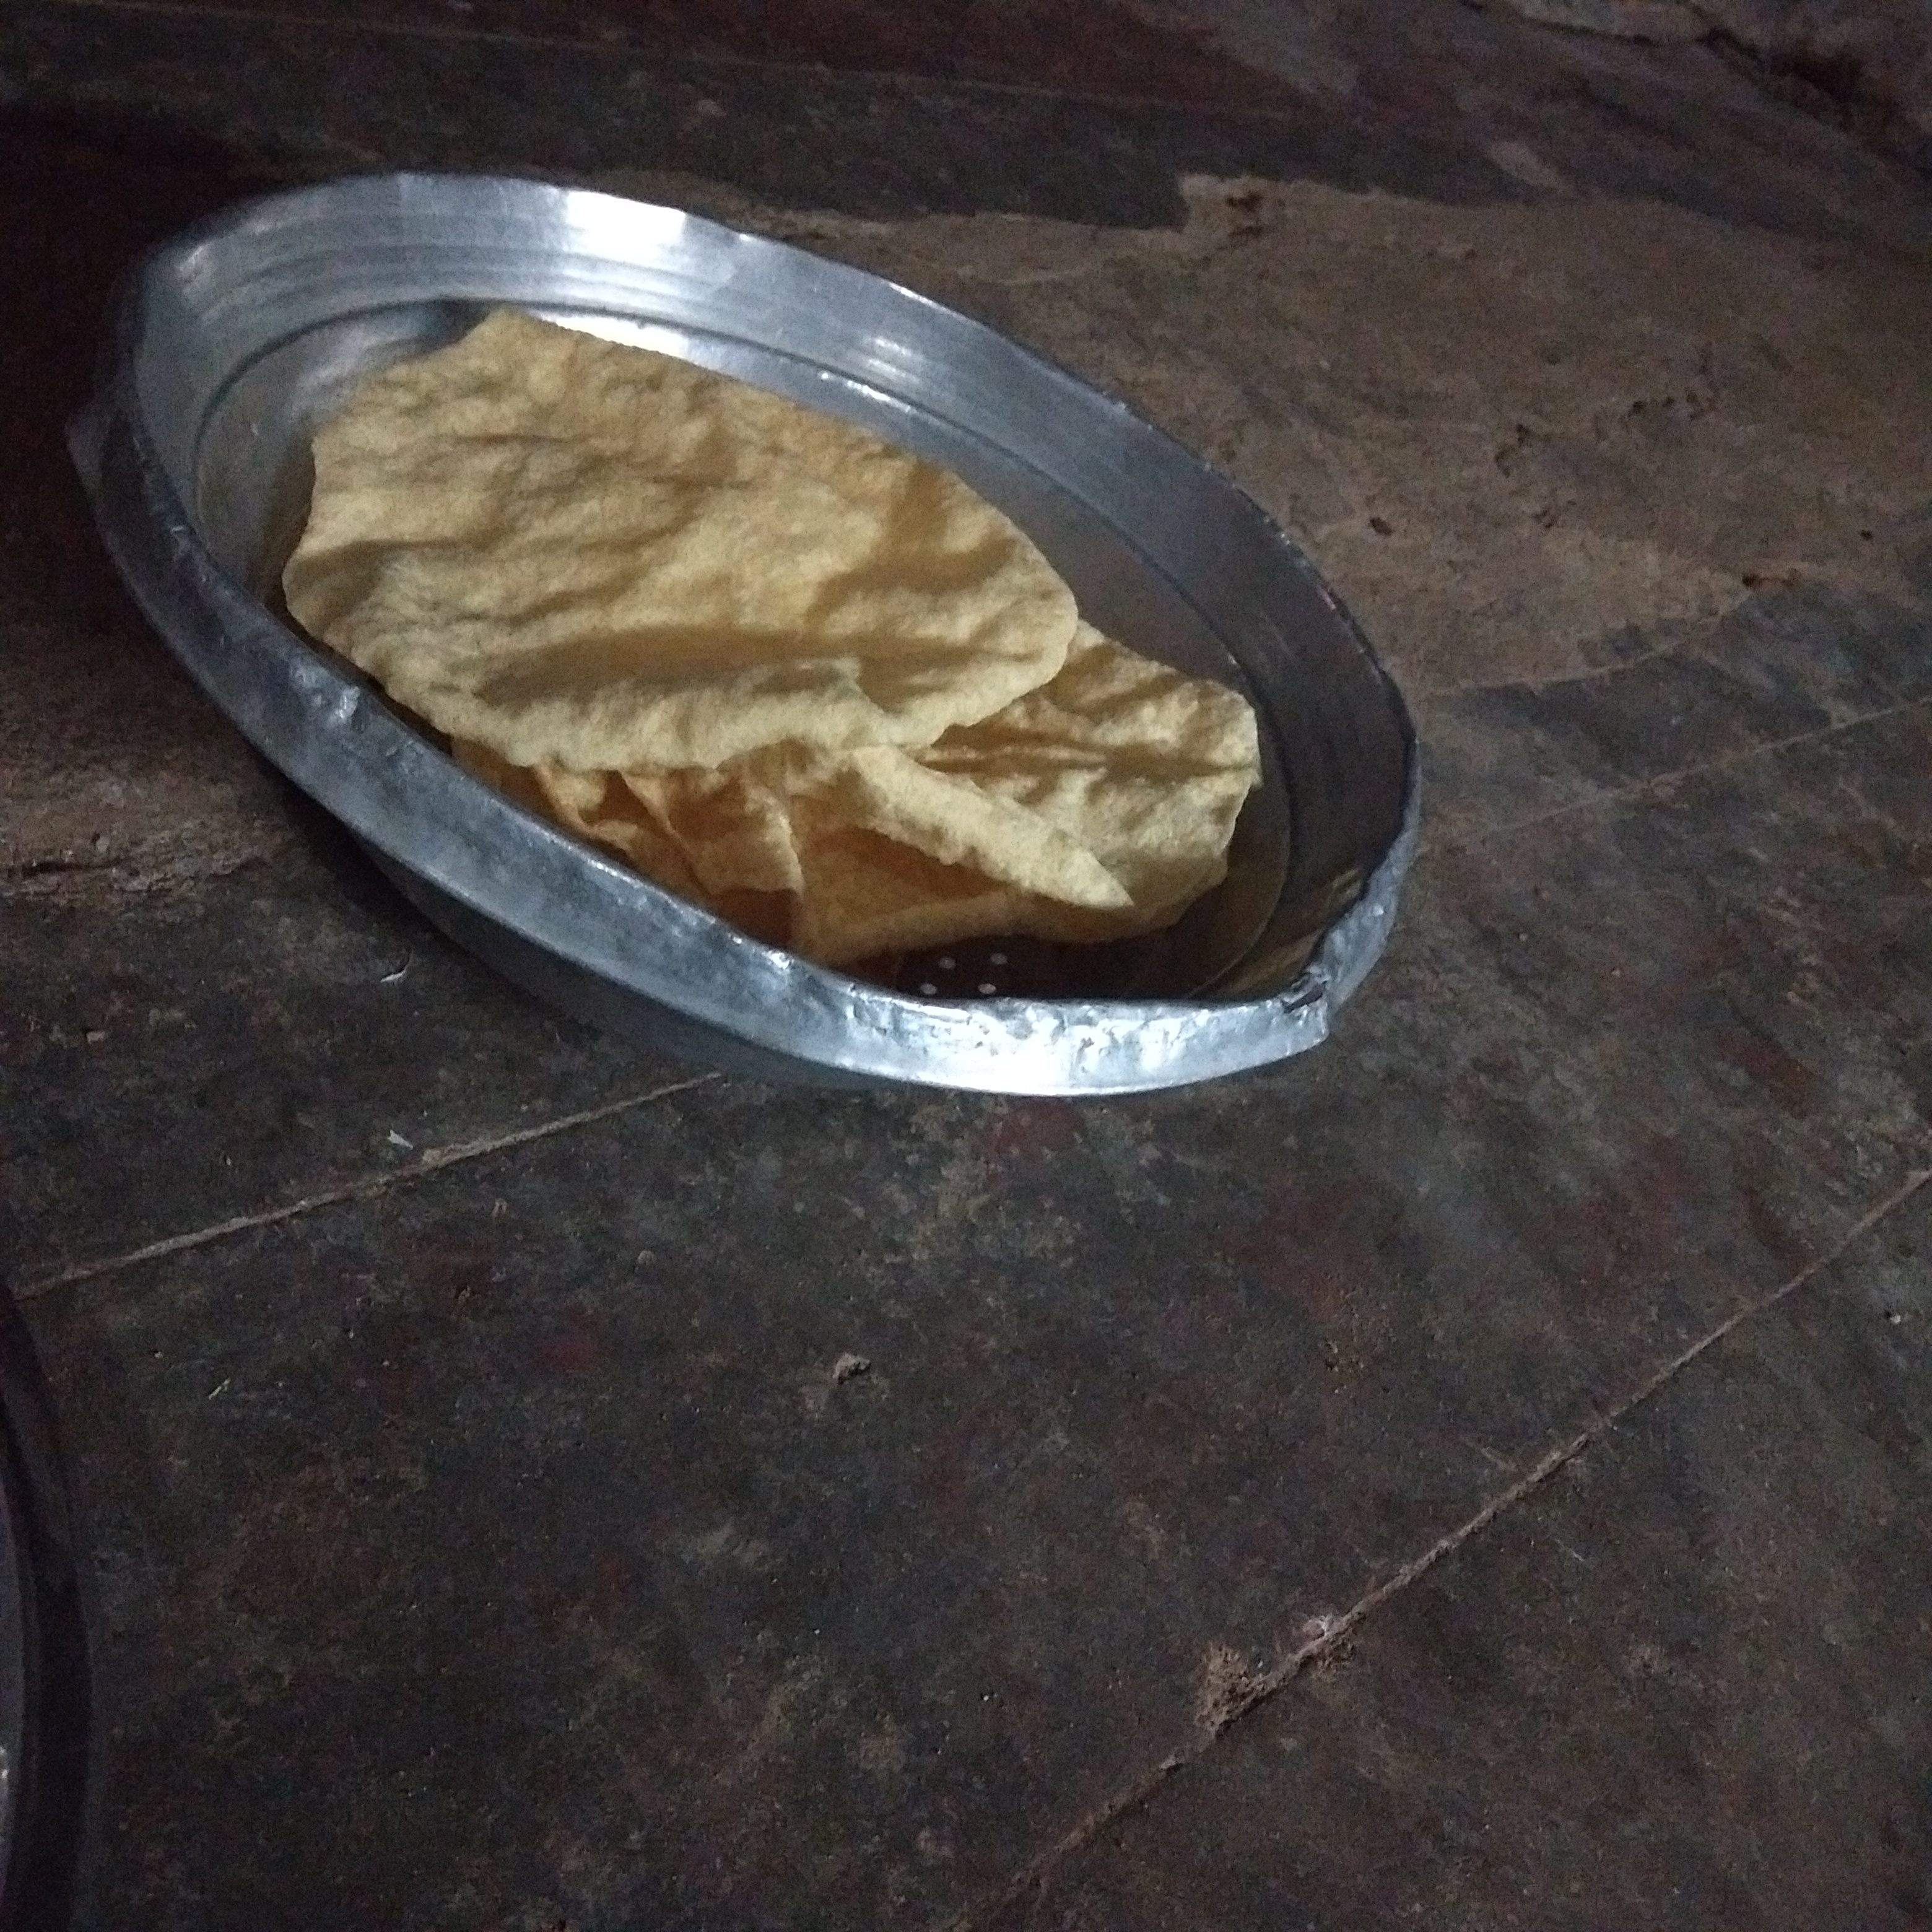food: (276, 295, 1274, 968)
